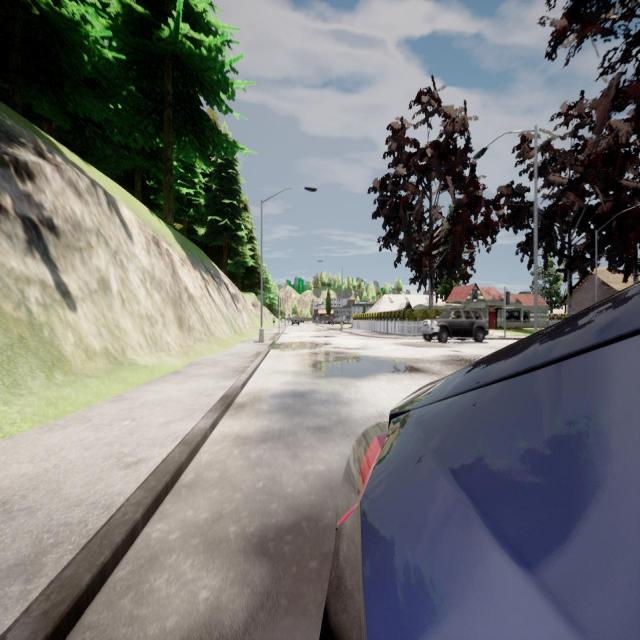Pedestrian: (272, 318, 275, 323)
Vehicle: (318, 279, 640, 640), (421, 304, 489, 343), (292, 317, 299, 326)
